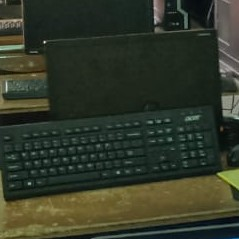monitor: (2, 22, 228, 115), (0, 0, 150, 60)
